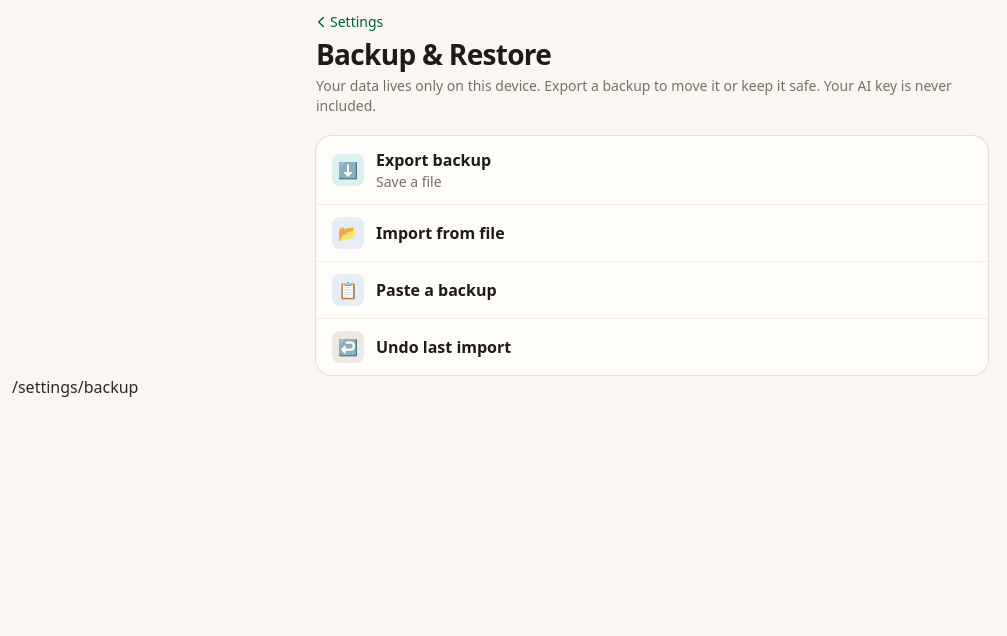
Backup & Restore page › explains a rejected backup
The width and height of the screenshot is (1007, 636).
Click the button "📋 Paste a backup": x=348, y=290 [316,262,988,318]
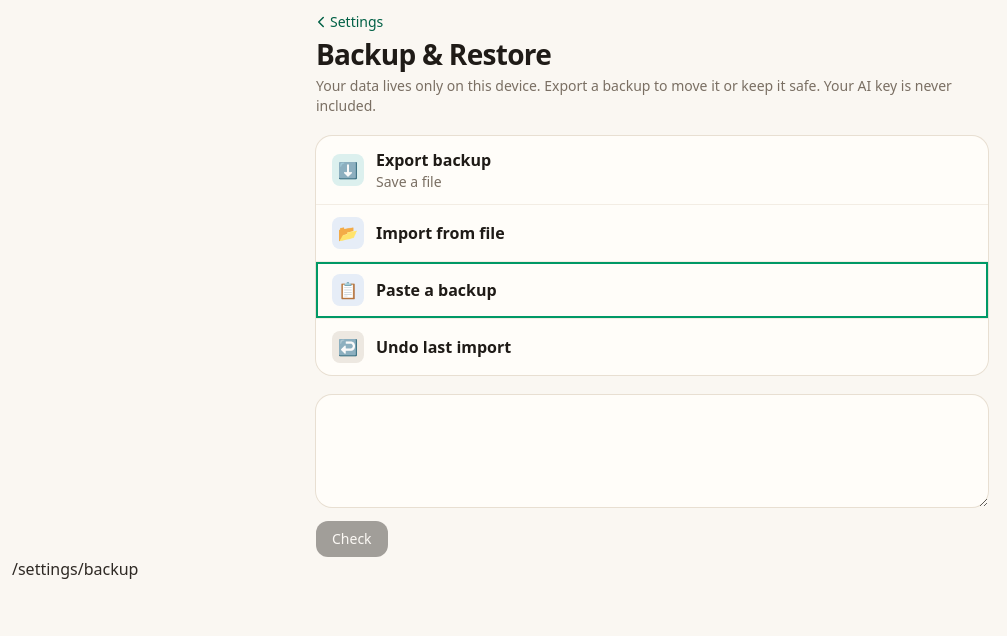
In the text box named "Paste backup": x=652, y=451 [316,395,988,507], type "hello"
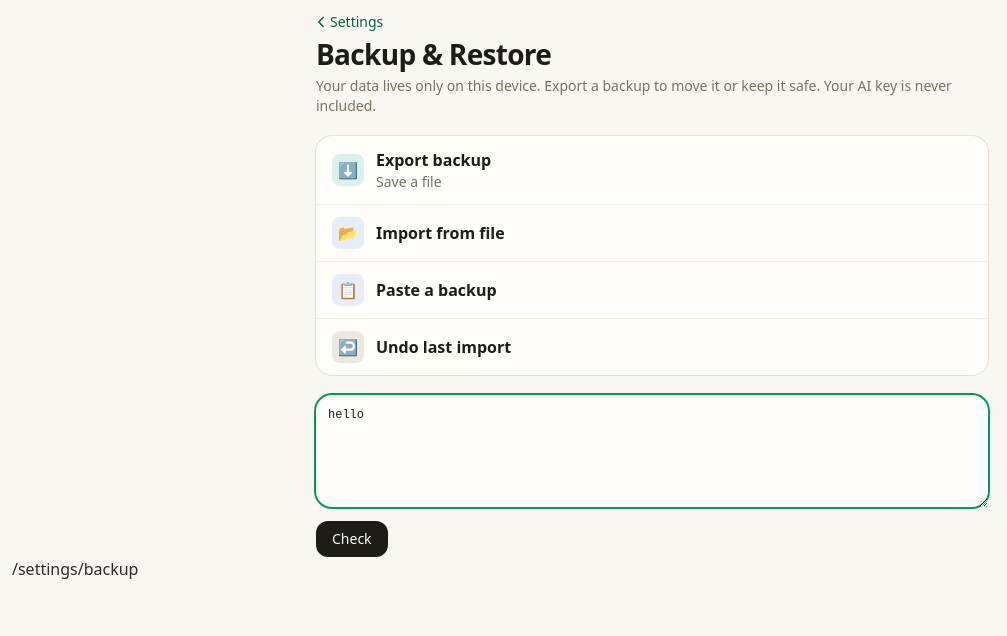
Click the button "Check": x=352, y=539 [316,521,388,557]
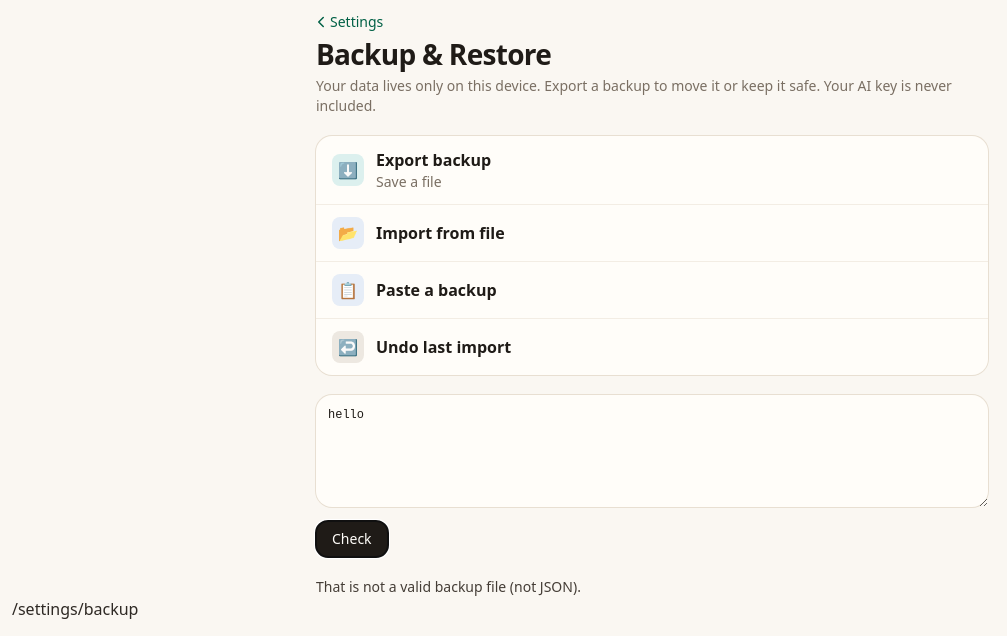
Now the text "That is not a valid backup file (not JSON)." is shown, box [316,577,581,596]
